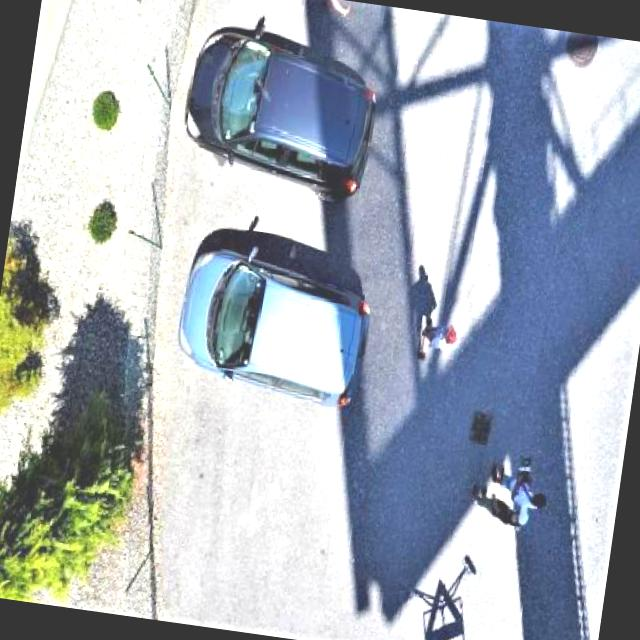Person: (459, 482, 534, 536), (480, 457, 544, 509), (410, 310, 460, 370)
